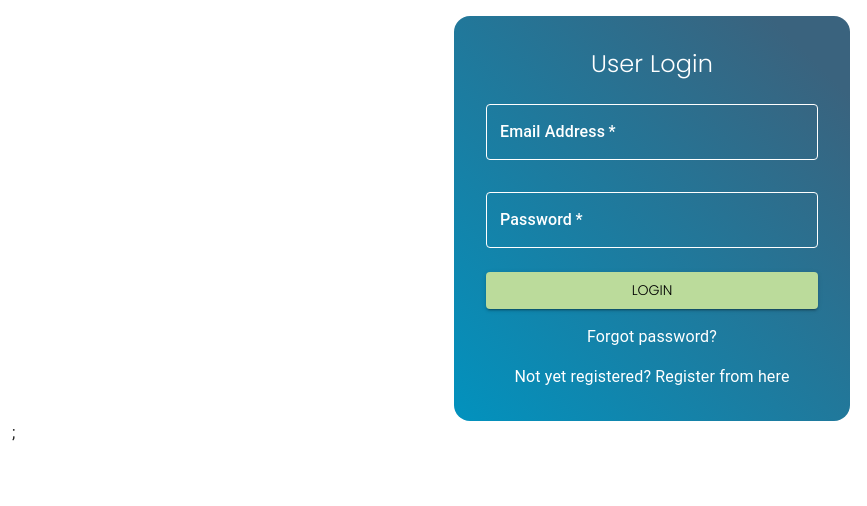
Test case: shows error message If the password not have at least 6 charactors
Type "testgmailcom" into the field labelled "Email Address *".
click(652, 132); type("testgmailcom")  # box x1=486 y1=104 x2=818 y2=160
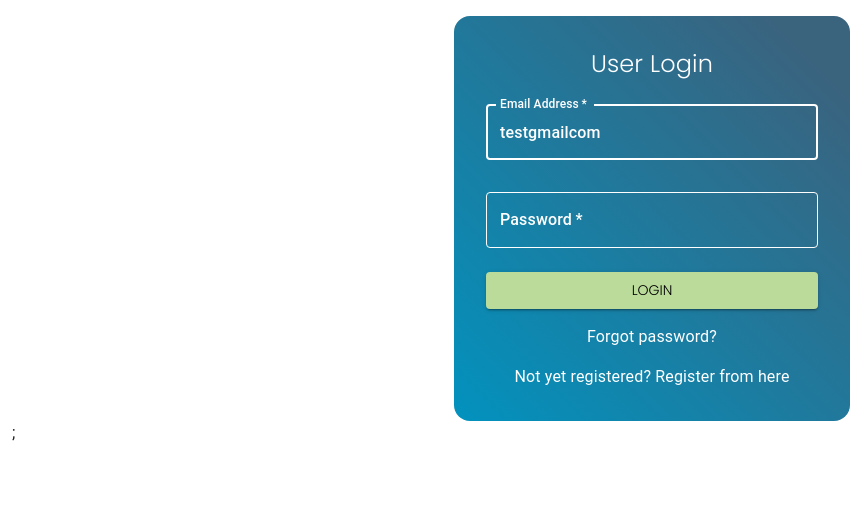
Type "test" into the password field with test id "password".
click(652, 220); type("test")  # box x1=486 y1=192 x2=818 y2=248
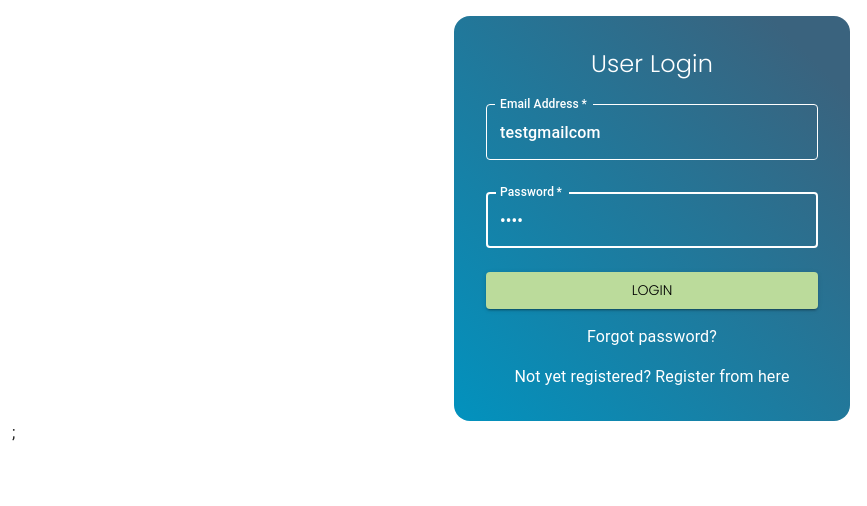
Click the button "Login".
click(652, 290)  # box x1=486 y1=272 x2=818 y2=308
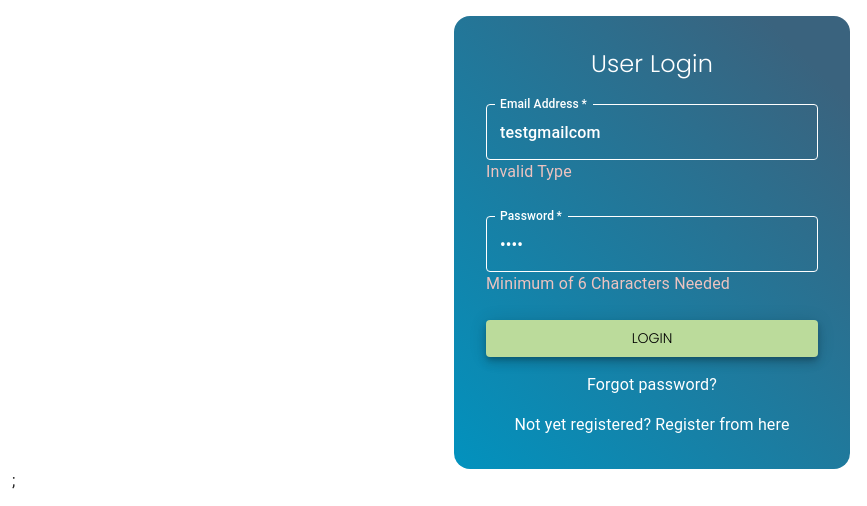
expect the text with test id "err-pwd" reads "Minimum of 6 Characters Needed": met, box x1=486 y1=274 x2=730 y2=293
